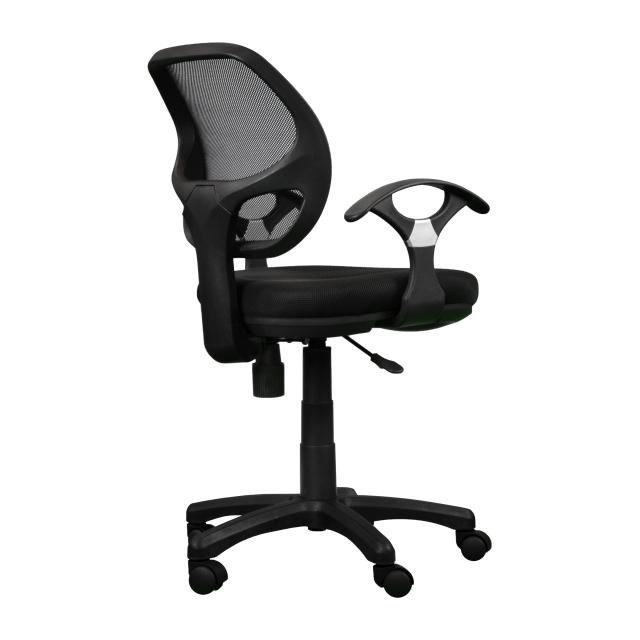chair: (147, 41, 493, 598)
